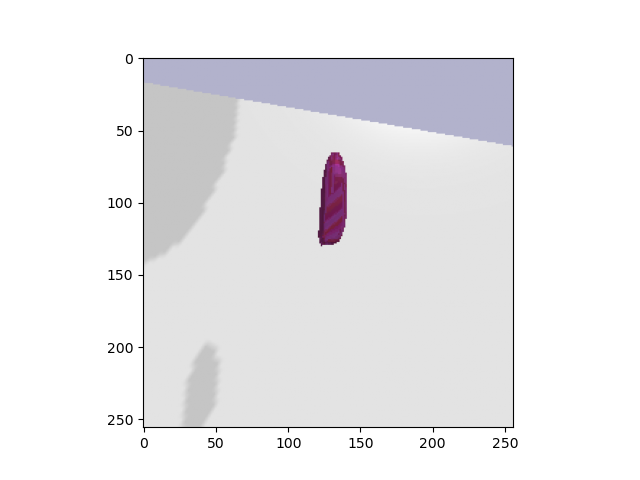v249b387_105: (310, 149, 355, 253)
